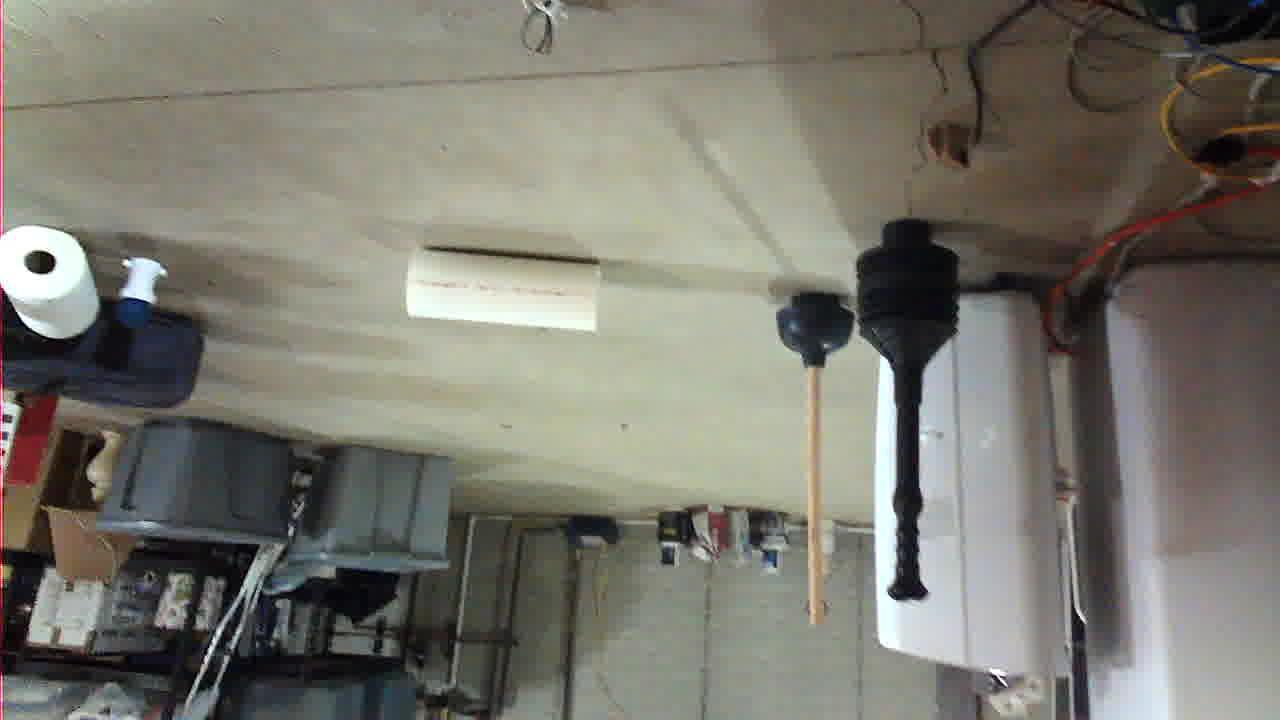coral: (683, 390, 873, 473)
